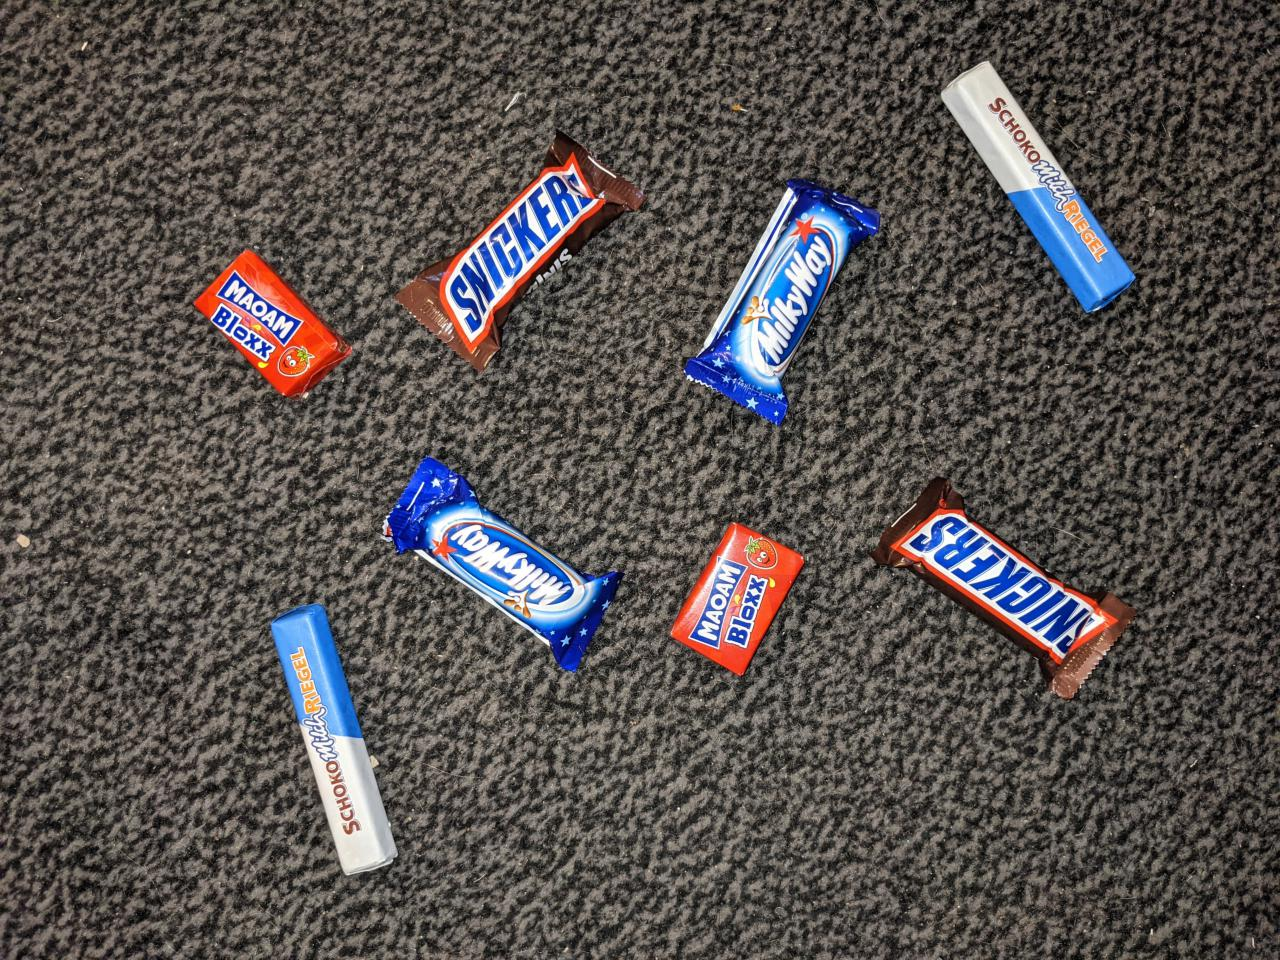MAOAM: (188, 243, 358, 408), (659, 515, 811, 683)
MilkyWay: (376, 454, 628, 677), (674, 172, 888, 428)
Schokoriegel: (934, 55, 1140, 317), (266, 602, 407, 884)
Snickers: (387, 126, 650, 374), (866, 472, 1143, 705)
